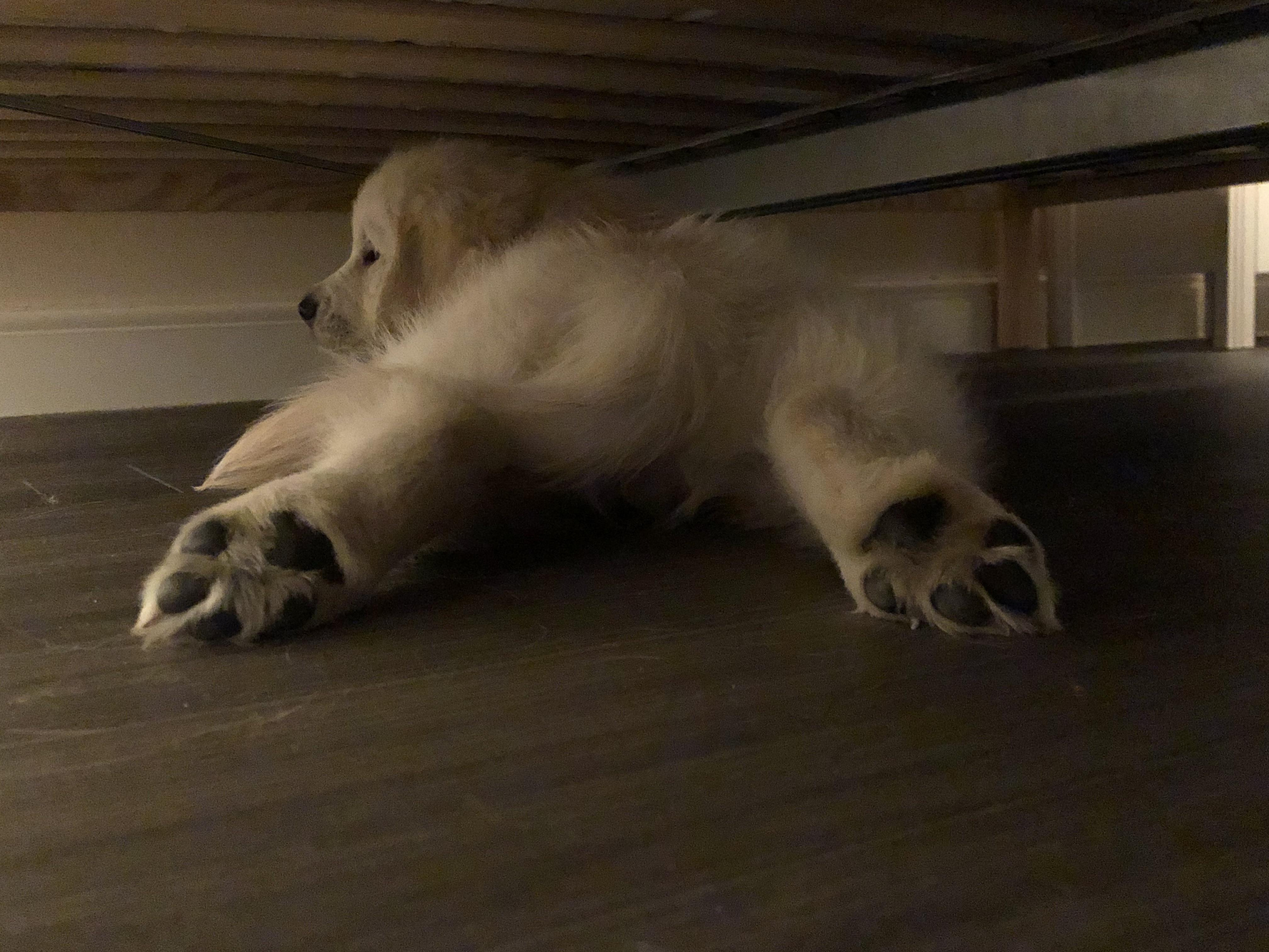puppy-dog: (128, 135, 1073, 656)
